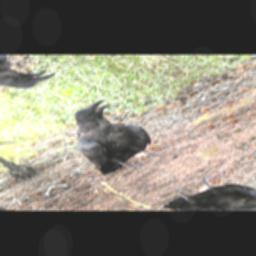Crow: (27, 97, 189, 182)
